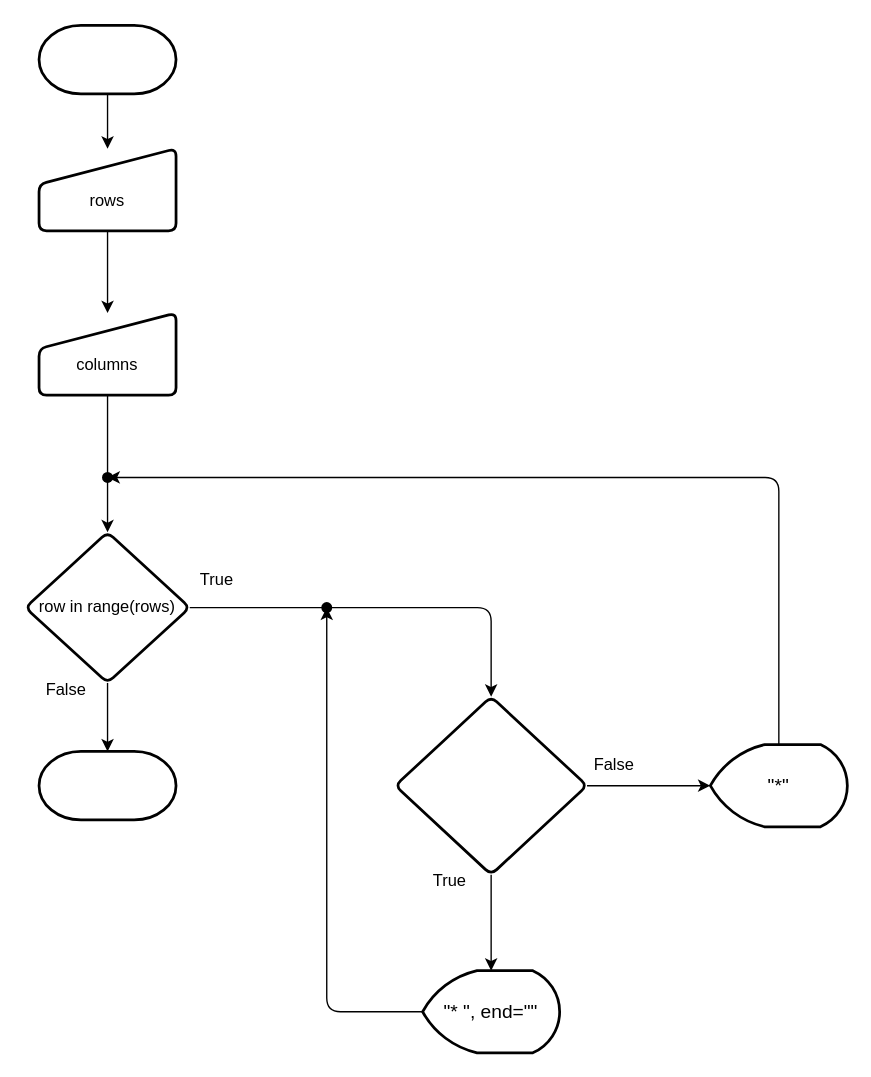
The diagram is 871 pixels wide and 1077 high, and some of its shapes have lost their labels. Here are the shapes that lost their labels. From the top down, the centre of each, then its label:
point 107,59: Start
point 107,785: End
point 490,785: column in range(columns-1)
